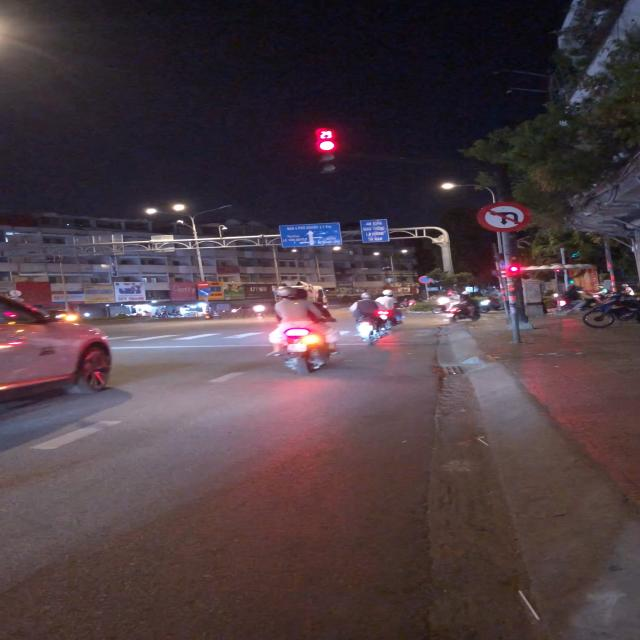Bien bao cam di nguoc chieu: (195, 280, 212, 289)
Bien bao cam re trai va quay dau: (478, 201, 538, 234)
Bien bao huong phai di vong chuong ngai vat: (197, 289, 214, 297)
